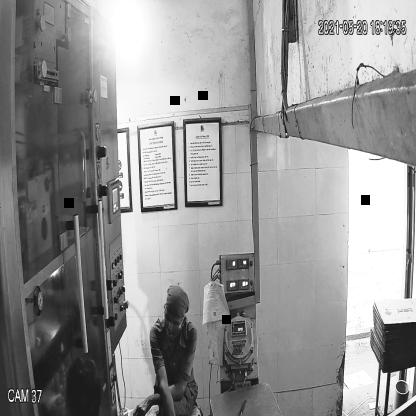goggles: (163, 308, 188, 334)
